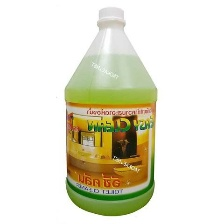cleaning_solution: (61, 4, 161, 217)
